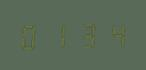four: (99, 19, 125, 49)
one: (45, 20, 71, 50)
three: (72, 20, 98, 49)
zero: (18, 20, 44, 50)
